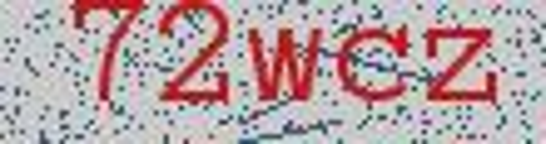2: (153, 1, 242, 135)
7: (58, 1, 154, 128)
c: (330, 4, 415, 137)
w: (237, 13, 328, 138)
z: (417, 9, 508, 132)
